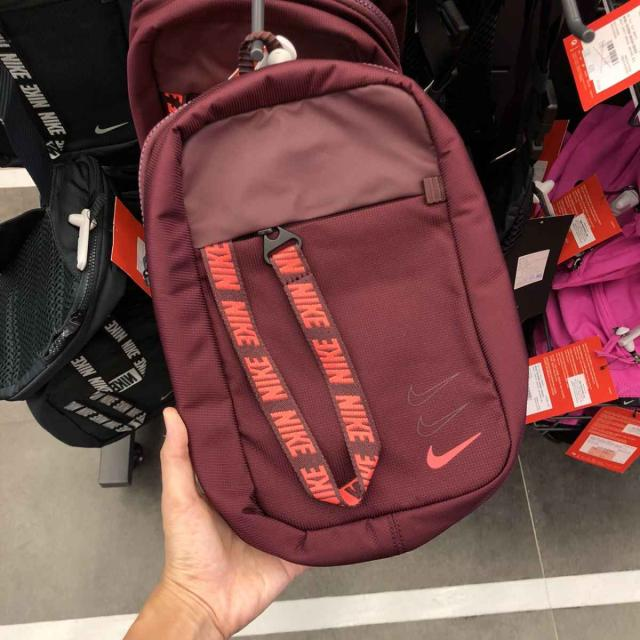Handbag: (140, 59, 527, 564)
